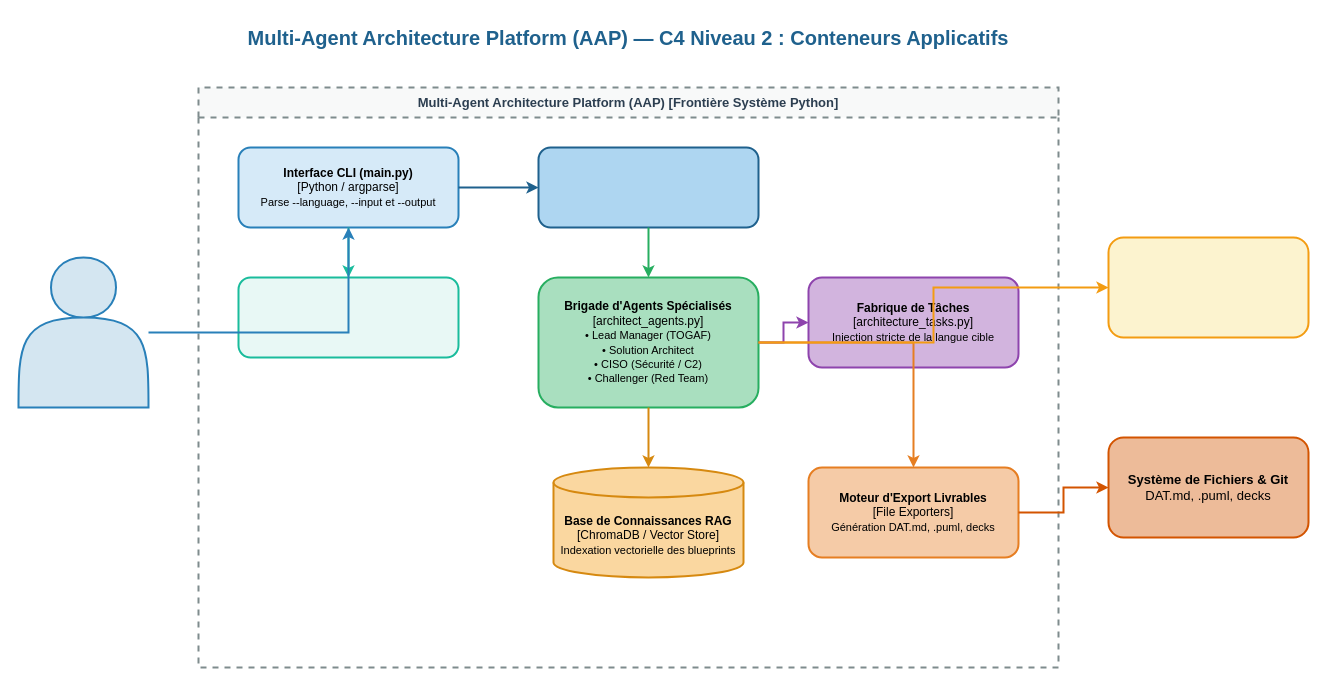
Some shapes in this 1326 by 685 pixel diagram are drawn without their labels. Here are the shapes that lost their labels. From the top down, the centre of each, then its label:
the point at 648,187: Moteur CrewAI [Framework Multi-Agents] Orchestration séquentielle & mémoire
the point at 1208,287: Google Gemini Cloud API • gemini-1.5-pro • gemini-1.5-flash
the point at 83,332: Lead Architect [Human-in-the-Loop]
the point at 348,317: Config & LLM Manager [settings.py / dotenv] Charge le .env et prépare les LLMs
